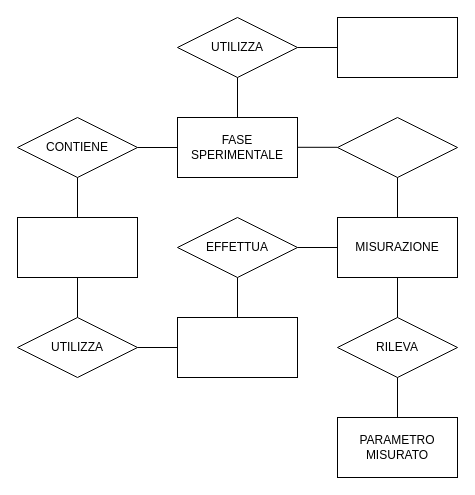
Some shapes in this 475 by 495 pixel diagram are drawn without their labels. The centre of each missing label's shape, as x and y in pixels:
CAMPIONE: point 237,347
ESPERIMENTO: point 77,247
GENERA: point 397,147
STRUMENTAZIONE: point 397,47
